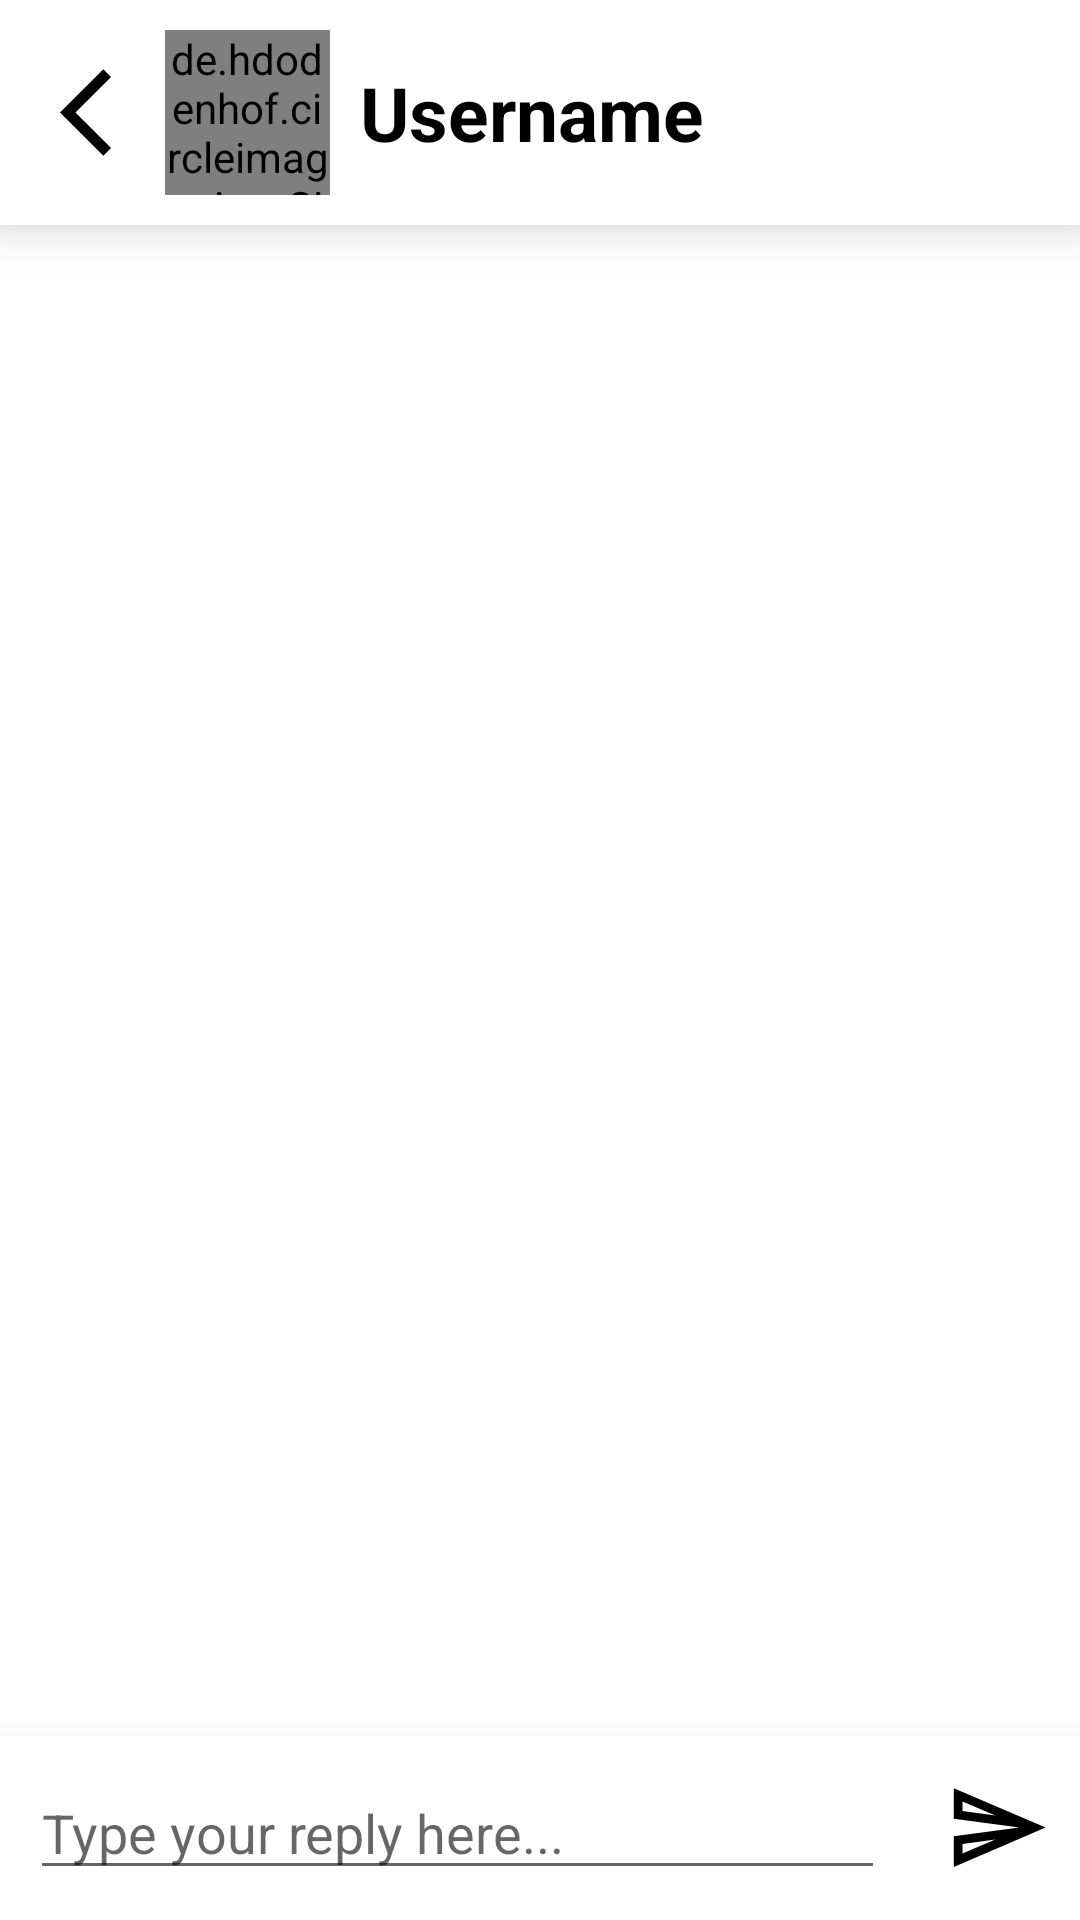

Icon bounding boxes for this 1080px×1920px phone screenshot, format [x1, y1, x2, y2]:
arrow back: [60, 69, 111, 156]
send: [953, 1788, 1046, 1867]
